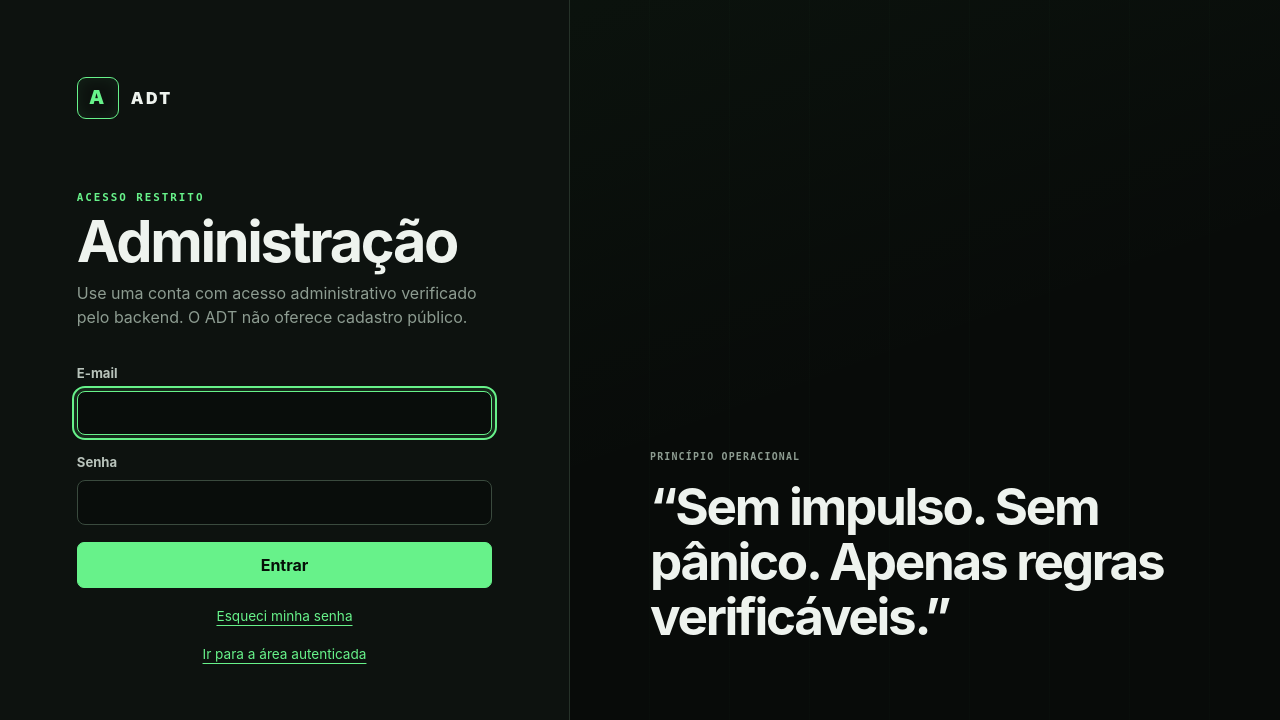
Scenario: autenticação e autorização › mostra mensagem neutra em login inválido
Type "unknown@example.com" into the field labelled "E-mail" at point(284, 413), box [77,391,492,435]
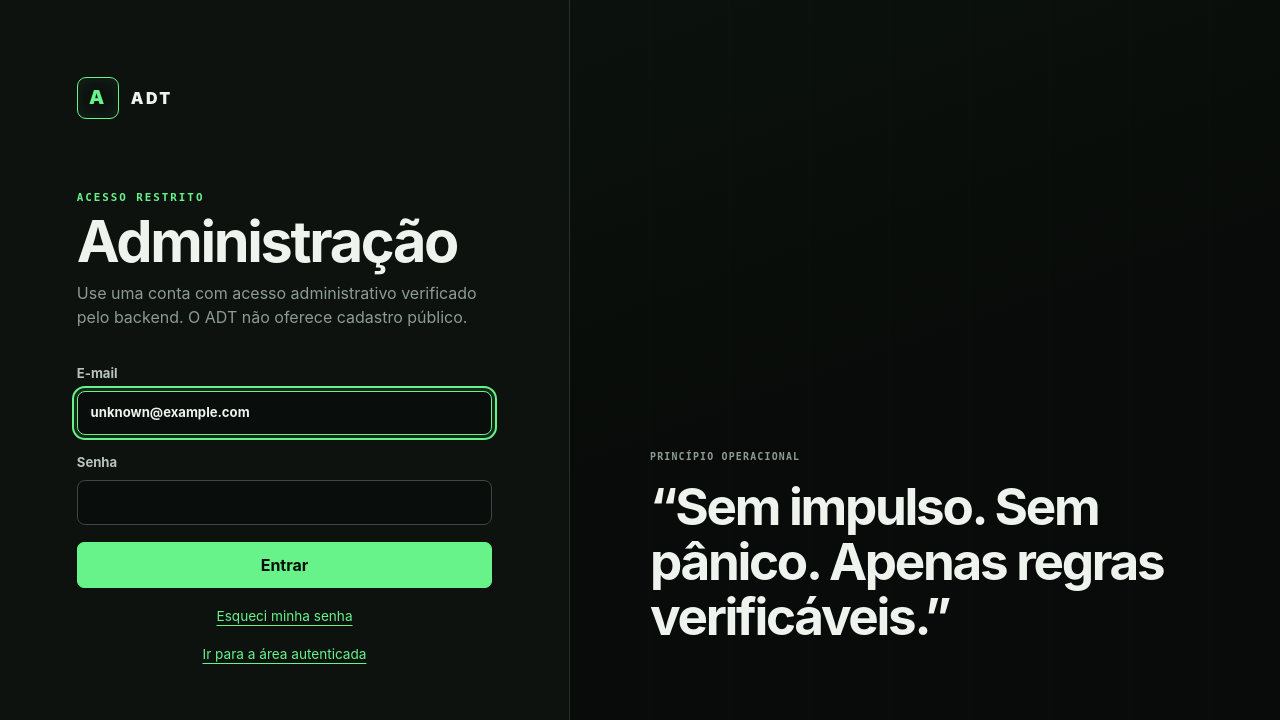
Type "incorreta" into the password field labelled "Senha" at point(284, 502), box [77,480,492,524]
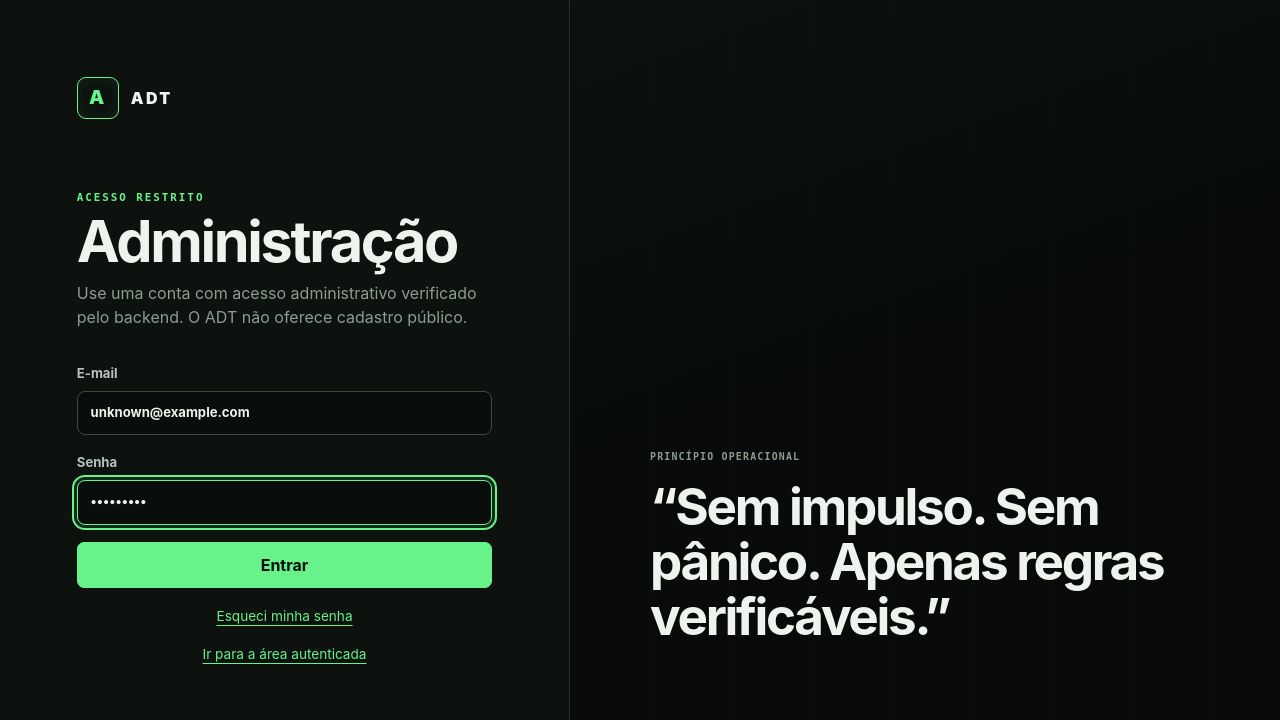
Click the button "Entrar" at point(284, 565), box [77,542,492,588]
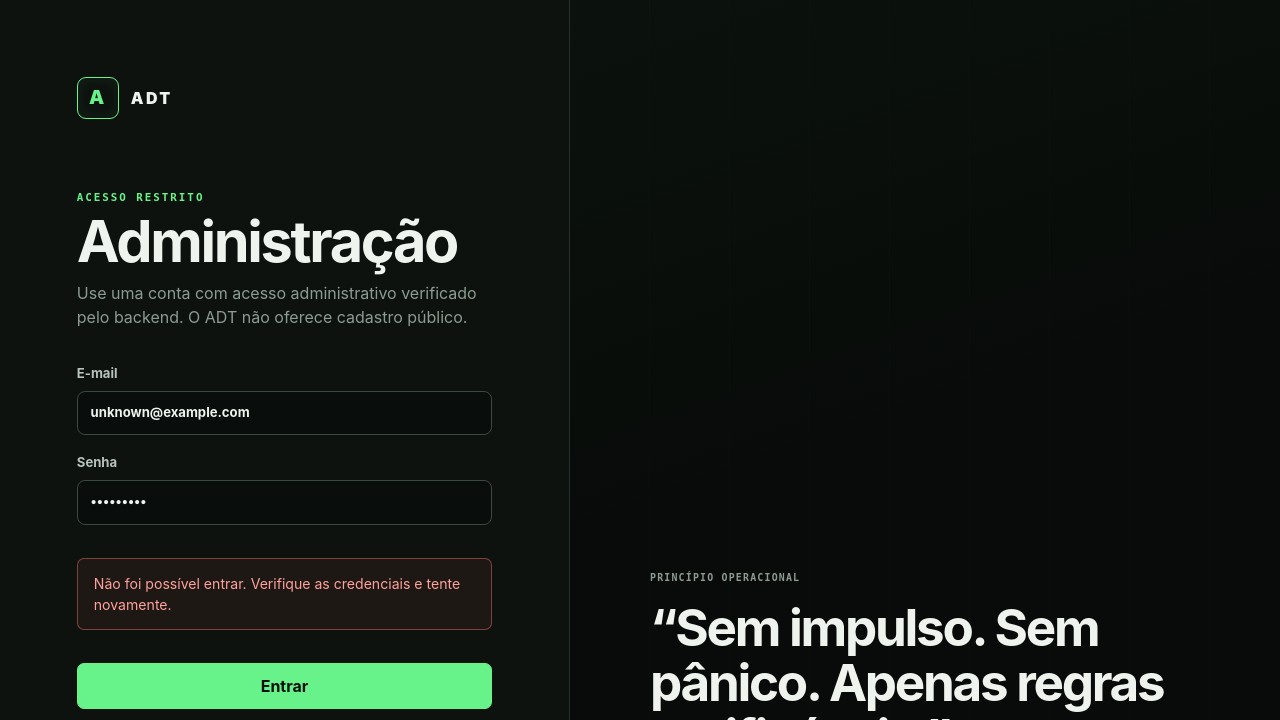
Now the text "Não foi possível entrar. Verifique as credenciais e tente novamente." is shown, box [77,558,492,630]
